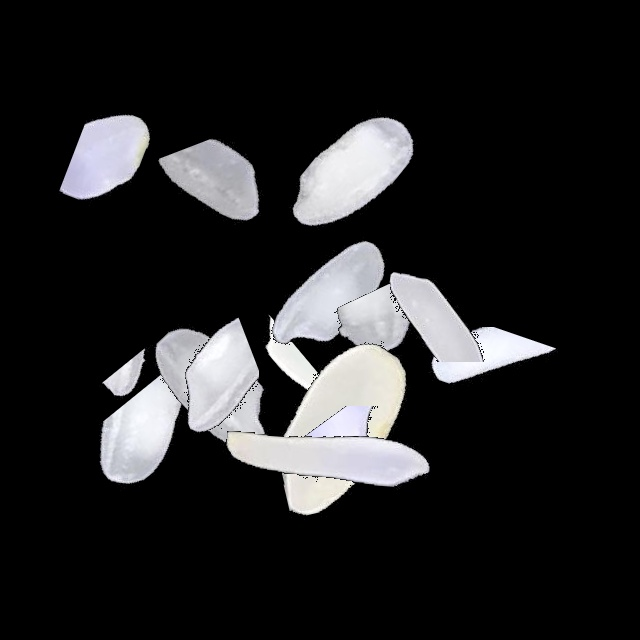Broken: (100, 138, 350, 300), (316, 204, 566, 362), (107, 262, 259, 512), (21, 97, 271, 245), (356, 327, 606, 474), (99, 333, 239, 583), (241, 406, 491, 538), (276, 283, 526, 397), (222, 273, 324, 523), (40, 344, 290, 431)
Full: (206, 171, 456, 421), (90, 265, 340, 515), (217, 301, 467, 551), (228, 48, 478, 298), (201, 331, 451, 581)
